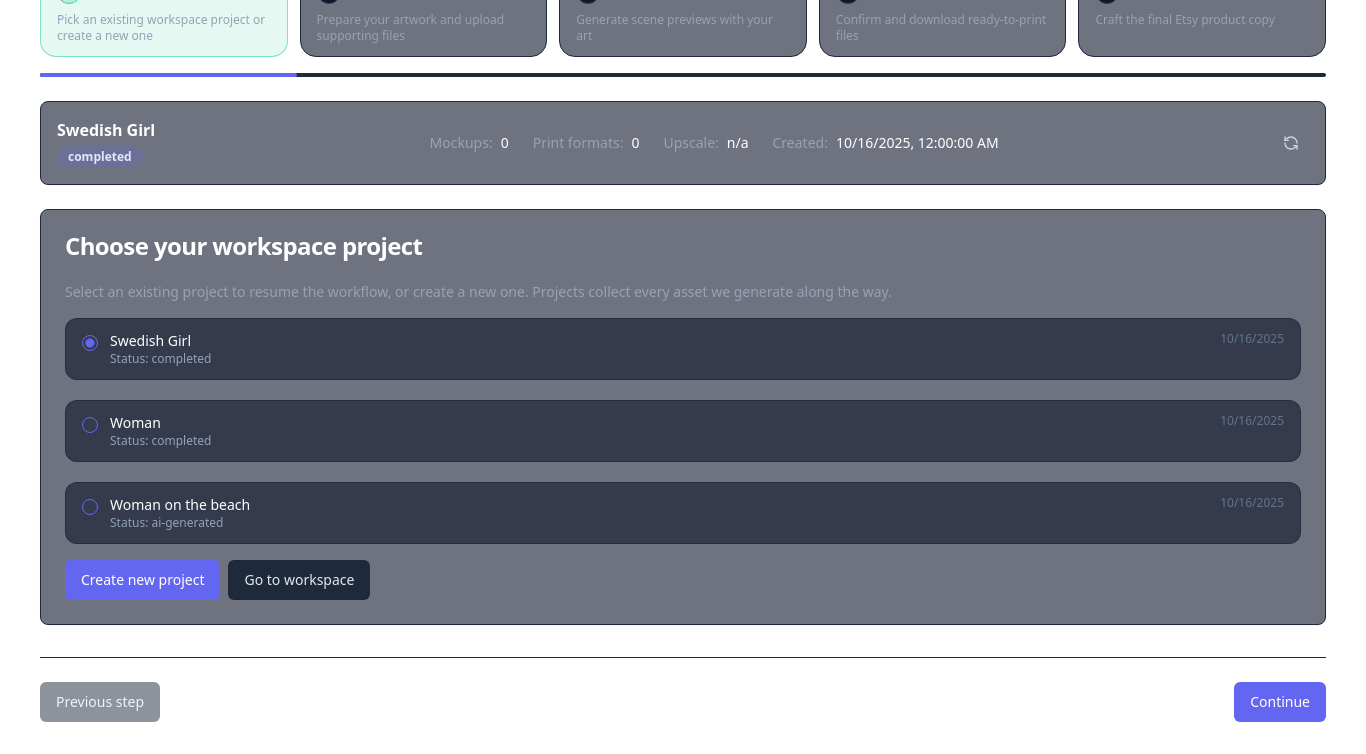
Scenario: WorkflowRunner - Step Navigation › should navigate back when clicking Previous
(page scrolled)
Expected: the heading "Swedish Girl" is shown, [57,118,155,142]
Click the button "Continue": click(1280, 702) [1234,682,1326,722]
(page scrolled)
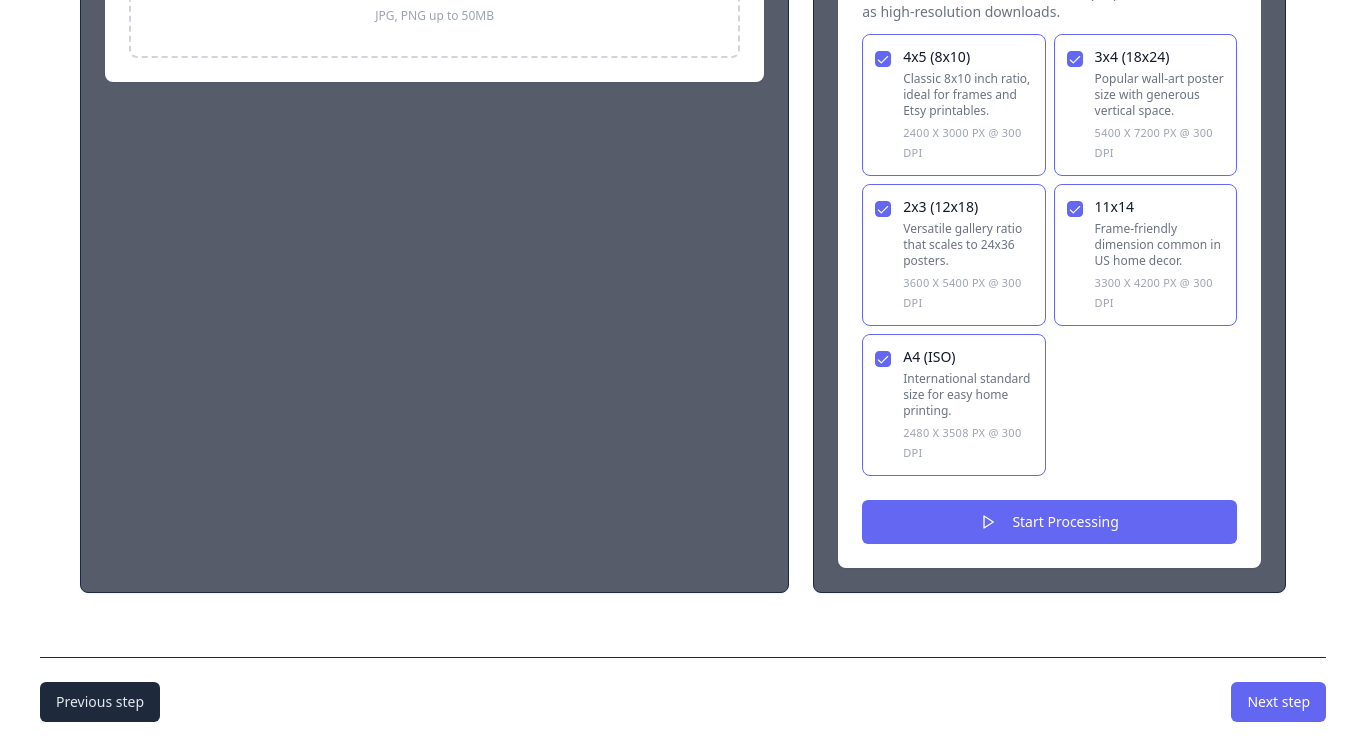
Go back to step 0
Click the button "Previous step": click(100, 702) [40,682,160,722]
(page scrolled)
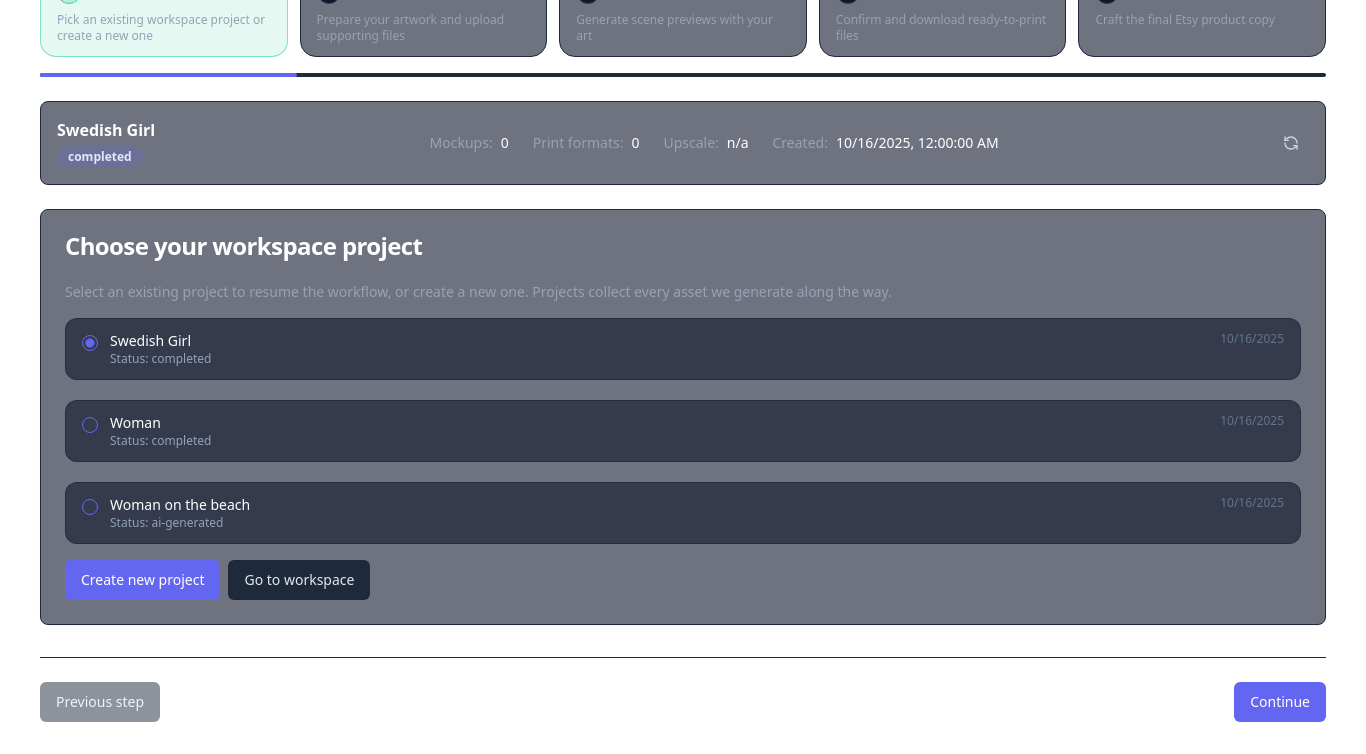
Now the text "Choose your workspace project" is shown, box [65,229,422,262]
